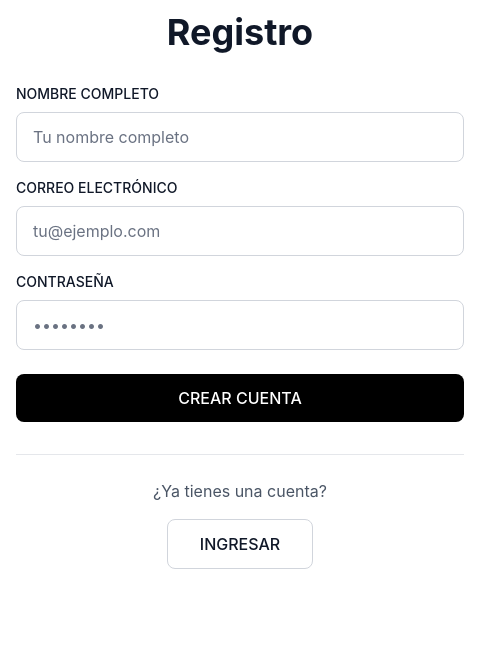
RegisterForm › shows password validation error for short password
The image size is (481, 670).
In the password field labelled "CONTRASEÑA": (240, 325) x1=16 y1=300 x2=464 y2=350, type "123"
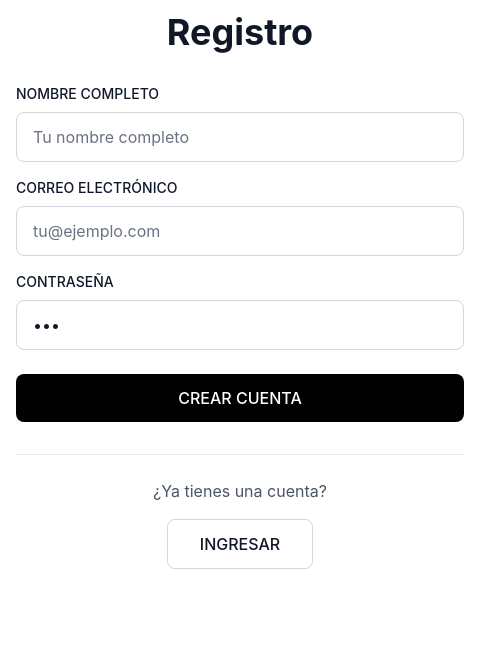
Click the button "CREAR CUENTA": (240, 398) x1=16 y1=374 x2=464 y2=422
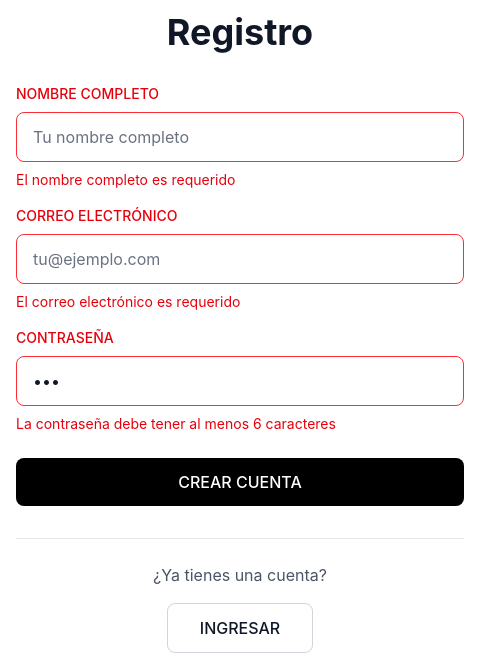
Check: the text "La contraseña debe tener al menos 6 caracteres" is shown, box x1=16 y1=415 x2=336 y2=432
